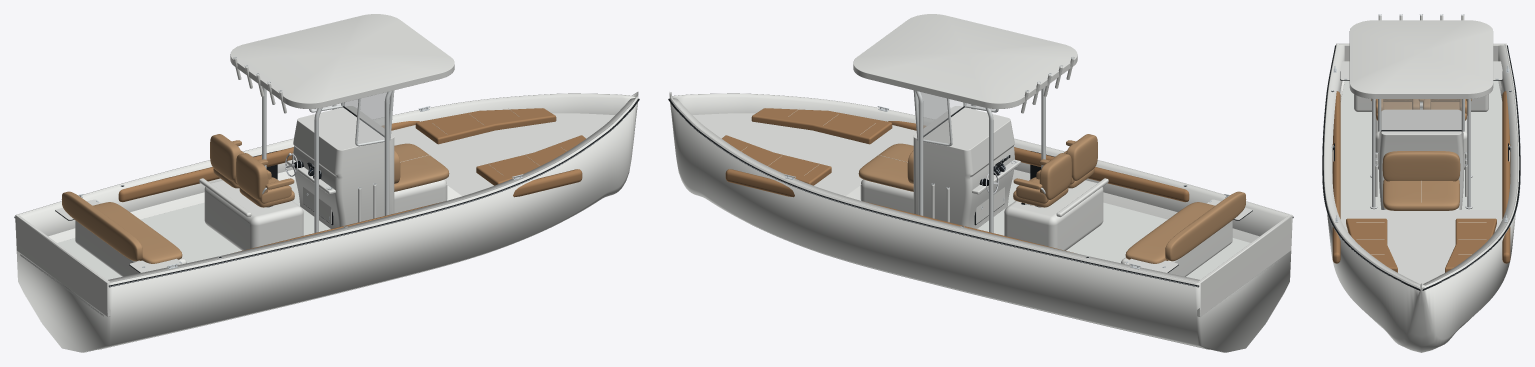
The model's file is Boat_offshore.glb.
The picture shows the model from 3 angles, left to right: view 1: azimuth 30°, elevation 25°; view 2: azimuth 150°, elevation 25°; view 3: azimuth 270°, elevation 25°; orthographic projection. The views are drawn at different scales.
Parts seen in each view (by area): view 1: Reference | continuous shaped fiberglass hull.003, Reference | sculpted fiberglass hardtop, Reference | contoured fiberglass console.002, Reference | shaped gunwale cap and inner liner.007, Reference | fitted raised bow casting deck.003, Reference | continuous nonskid cockpit sole.003, Reference | entertainment leaning post, Reference | integrated transom liner.003, Reference | shaped tan bow cushion.001, Reference | shaped gunwale cap and inner liner.006, Reference | tan aft bench backrest, Reference | tan aft bench (+15 smaller); view 2: Reference | continuous shaped fiberglass hull.003, Reference | sculpted fiberglass hardtop, Reference | contoured fiberglass console.002, Reference | shaped gunwale cap and inner liner.006, Reference | fitted raised bow casting deck.003, Reference | entertainment leaning post, Reference | continuous nonskid cockpit sole.003, Reference | integrated transom liner.003, Reference | shaped tan bow cushion, Reference | shaped gunwale cap and inner liner.007, Reference | tan aft bench backrest, Reference | horizontal cockpit bolster (+15 smaller); view 3: Reference | continuous shaped fiberglass hull.003, Reference | sculpted fiberglass hardtop, Reference | continuous nonskid cockpit sole.003, Reference | fitted raised bow casting deck.003, Reference | contoured fiberglass console.002, V59 | integrated full-height hardtop windshield, Reference | paired console front chaise cushions, Reference | console padded front backrest, Reference | shaped gunwale cap and inner liner.006, Reference | shaped gunwale cap and inner liner.007, Reference | shaped tan bow cushion, Reference | shaped tan bow cushion.001 (+15 smaller).
Part boxes in pixels (box(x1,y1,x2,y2)): Reference | continuous shaped fiberglass hull.003: box(15, 92, 638, 352); Reference | sculpted fiberglass hardtop: box(230, 14, 454, 108); Reference | contoured fiberglass console.002: box(293, 106, 394, 228); Reference | shaped gunwale cap and inner liner.007: box(17, 94, 635, 236); Reference | fitted raised bow casting deck.003: box(391, 113, 614, 196); Reference | continuous nonskid cockpit sole.003: box(20, 180, 330, 316); Reference | entertainment leaning post: box(204, 180, 303, 250); Reference | integrated transom liner.003: box(16, 215, 110, 316); Reference | shaped tan bow cushion.001: box(415, 108, 556, 144); Reference | shaped gunwale cap and inner liner.006: box(108, 97, 635, 282); Reference | tan aft bench backrest: box(61, 191, 142, 261); Reference | tan aft bench: box(93, 202, 182, 263); Reference | continuous shaped fiberglass hull.003: box(669, 92, 1292, 352); Reference | sculpted fiberglass hardtop: box(853, 14, 1077, 108); Reference | contoured fiberglass console.002: box(913, 106, 1014, 228); Reference | shaped gunwale cap and inner liner.006: box(672, 94, 1290, 236); Reference | fitted raised bow casting deck.003: box(693, 113, 916, 196); Reference | entertainment leaning post: box(1004, 180, 1103, 250); Reference | continuous nonskid cockpit sole.003: box(977, 180, 1273, 302); Reference | integrated transom liner.003: box(1197, 215, 1291, 316); Reference | shaped tan bow cushion: box(751, 108, 892, 144); Reference | shaped gunwale cap and inner liner.007: box(672, 98, 1199, 282); Reference | tan aft bench backrest: box(1165, 191, 1246, 261); Reference | horizontal cockpit bolster: box(888, 121, 1189, 202); Reference | continuous shaped fiberglass hull.003: box(1323, 43, 1519, 352); Reference | sculpted fiberglass hardtop: box(1349, 20, 1493, 98); Reference | continuous nonskid cockpit sole.003: box(1340, 80, 1502, 209); Reference | fitted raised bow casting deck.003: box(1340, 210, 1502, 305); Reference | contoured fiberglass console.002: box(1379, 109, 1463, 209); V59 | integrated full-height hardtop windshield: box(1381, 99, 1461, 129); Reference | paired console front chaise cushions: box(1383, 179, 1459, 210); Reference | console padded front backrest: box(1382, 151, 1460, 181); Reference | shaped gunwale cap and inner liner.006: box(1325, 44, 1420, 286); Reference | shaped gunwale cap and inner liner.007: box(1422, 44, 1517, 287); Reference | shaped tan bow cushion: box(1346, 218, 1397, 272); Reference | shaped tan bow cushion.001: box(1445, 218, 1496, 272).
Bounding box in the file's own units: 9.2 × 3.46 × 3.02.
